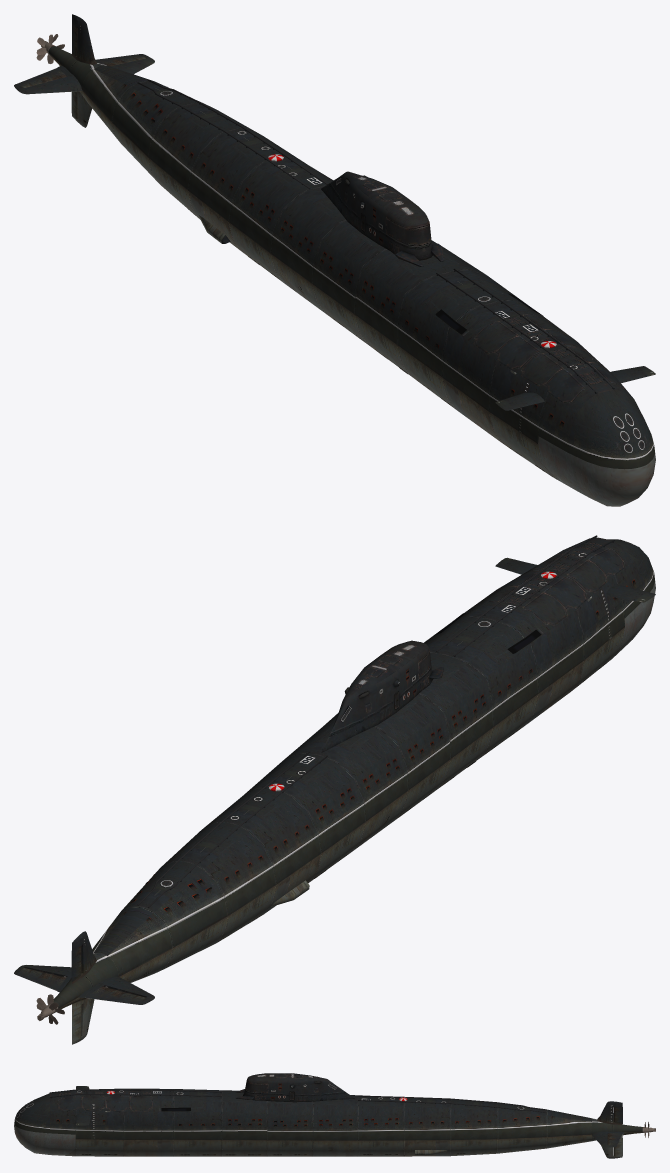
Rendered from submarine.glb.
3 views of the same model, one above another, from view 1: azimuth 30°, elevation 25°; view 2: azimuth 150°, elevation 25°; view 3: azimuth 270°, elevation 25° (orthographic). The views are drawn at different scales.
Visible parts, largest first — view 1: charlie2_2; view 2: charlie2_2; view 3: charlie2_2.
Boxes of the visible parts, x1,y1,x2,y2 form: charlie2_2: [14, 14, 655, 506]; charlie2_2: [14, 535, 655, 1044]; charlie2_2: [14, 1073, 655, 1158].
Bounding box in the file's own units: 1.96 × 1.92 × 13.42.
1 material, 1 textured.
